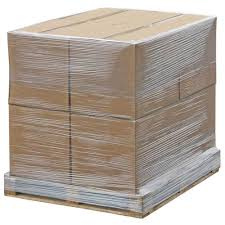box: (69, 36, 134, 120), (6, 104, 71, 187), (71, 113, 135, 197), (7, 31, 69, 113), (136, 102, 179, 195), (134, 30, 177, 119), (178, 14, 216, 102), (179, 83, 216, 167)
pallet: (2, 145, 222, 219)
